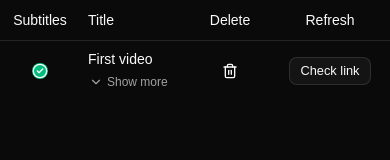
Test case: TableLink › allows expanding and collapsing a title
Click the button "Show more" at (128, 82), box [88, 72, 169, 90]
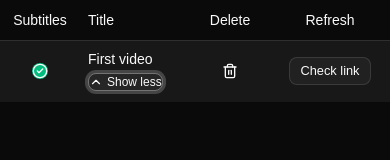
Result: the button "Show less" is expanded at [88, 72, 163, 90]
